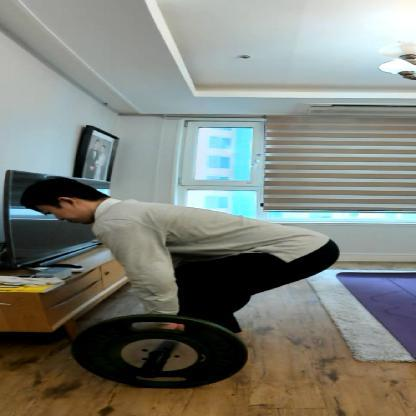Barbell: (134, 368, 167, 381)
